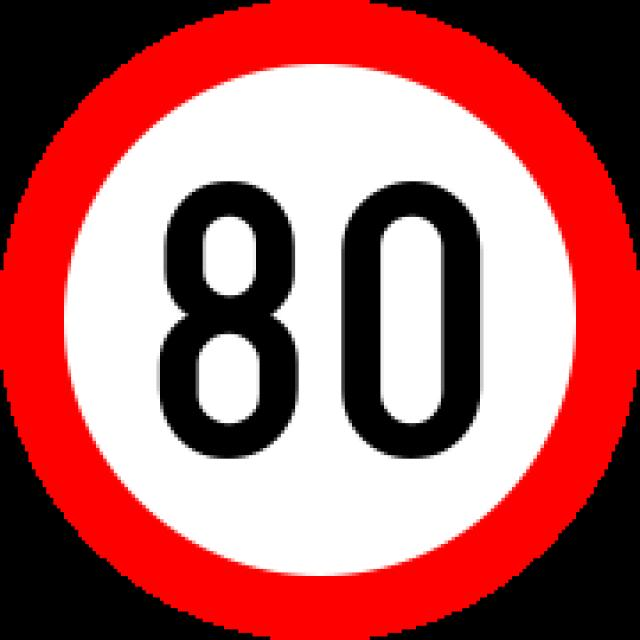Speed Limit -80-: (159, 180, 482, 458)
